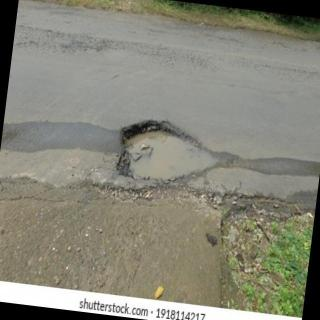pothole: (118, 120, 240, 180)
